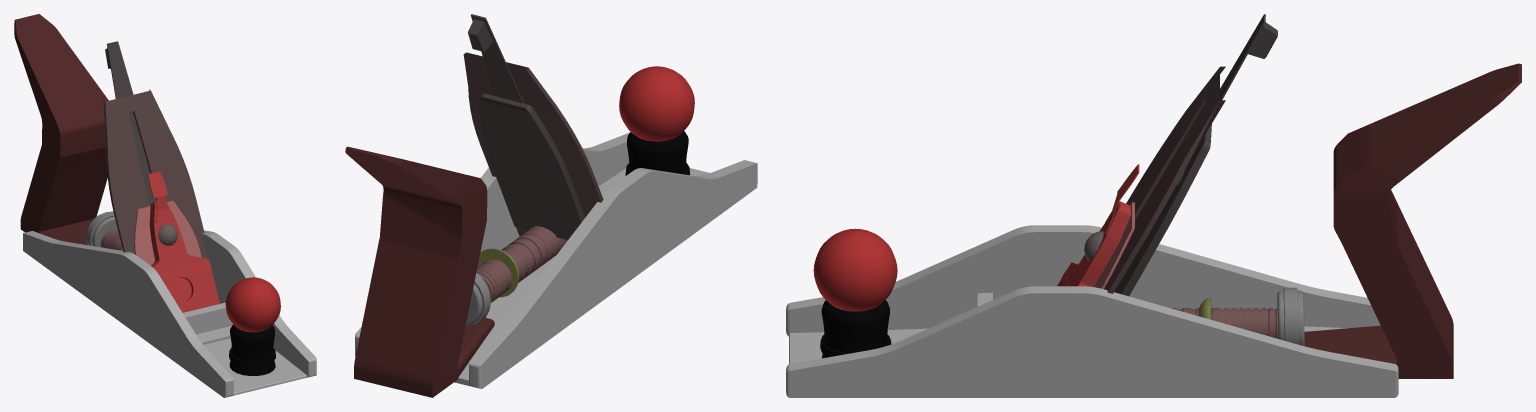
The model's file is hand plane.fbx.
3 views of the same model, side by side, from view 1: azimuth 30°, elevation 25°; view 2: azimuth 150°, elevation 25°; view 3: azimuth 270°, elevation 25° (orthographic). The views are drawn at different scales.
Visible parts, largest first — view 1: base, handle, blade, chip_breaker, knob, knob_handle, screw_cap, lever, wheel1, adjusting_screw, cap_screw; view 2: base, handle, lever, blade, knob, adjusting_screw, knob_handle, wheel1, cap_screw1; view 3: base, handle, blade, knob, lever, knob_handle, chip_breaker, adjusting_screw, wheel1, screw_cap.
Part boxes in pixels (x1,y1,x2,y2): base: (23,211,316,397); handle: (14,14,108,244); blade: (103,89,207,258); chip_breaker: (148,171,219,312); knob: (225,277,280,332); knob_handle: (229,324,275,375); screw_cap: (134,200,201,265); lever: (105,41,156,205); wheel1: (86,211,117,247); adjusting_screw: (100,229,122,250); cap_screw: (158,224,177,245); base: (355,132,757,388); handle: (345,146,494,397); lever: (468,14,585,239); blade: (463,52,603,236); knob: (619,66,694,141); adjusting_screw: (476,226,567,302); knob_handle: (625,131,689,175); wheel1: (465,273,490,325); cap_screw1: (477,248,519,297); base: (786,225,1398,397); handle: (1304,63,1521,378); blade: (1104,66,1225,293); knob: (813,228,897,311); lever: (1114,14,1277,296); knob_handle: (820,300,891,358); chip_breaker: (1057,164,1139,286); adjusting_screw: (1170,308,1278,338); wheel1: (1277,287,1304,346); screw_cap: (1094,202,1134,289).
Size of the model in its own units: 1.11 by 2.62 by 5.05.
